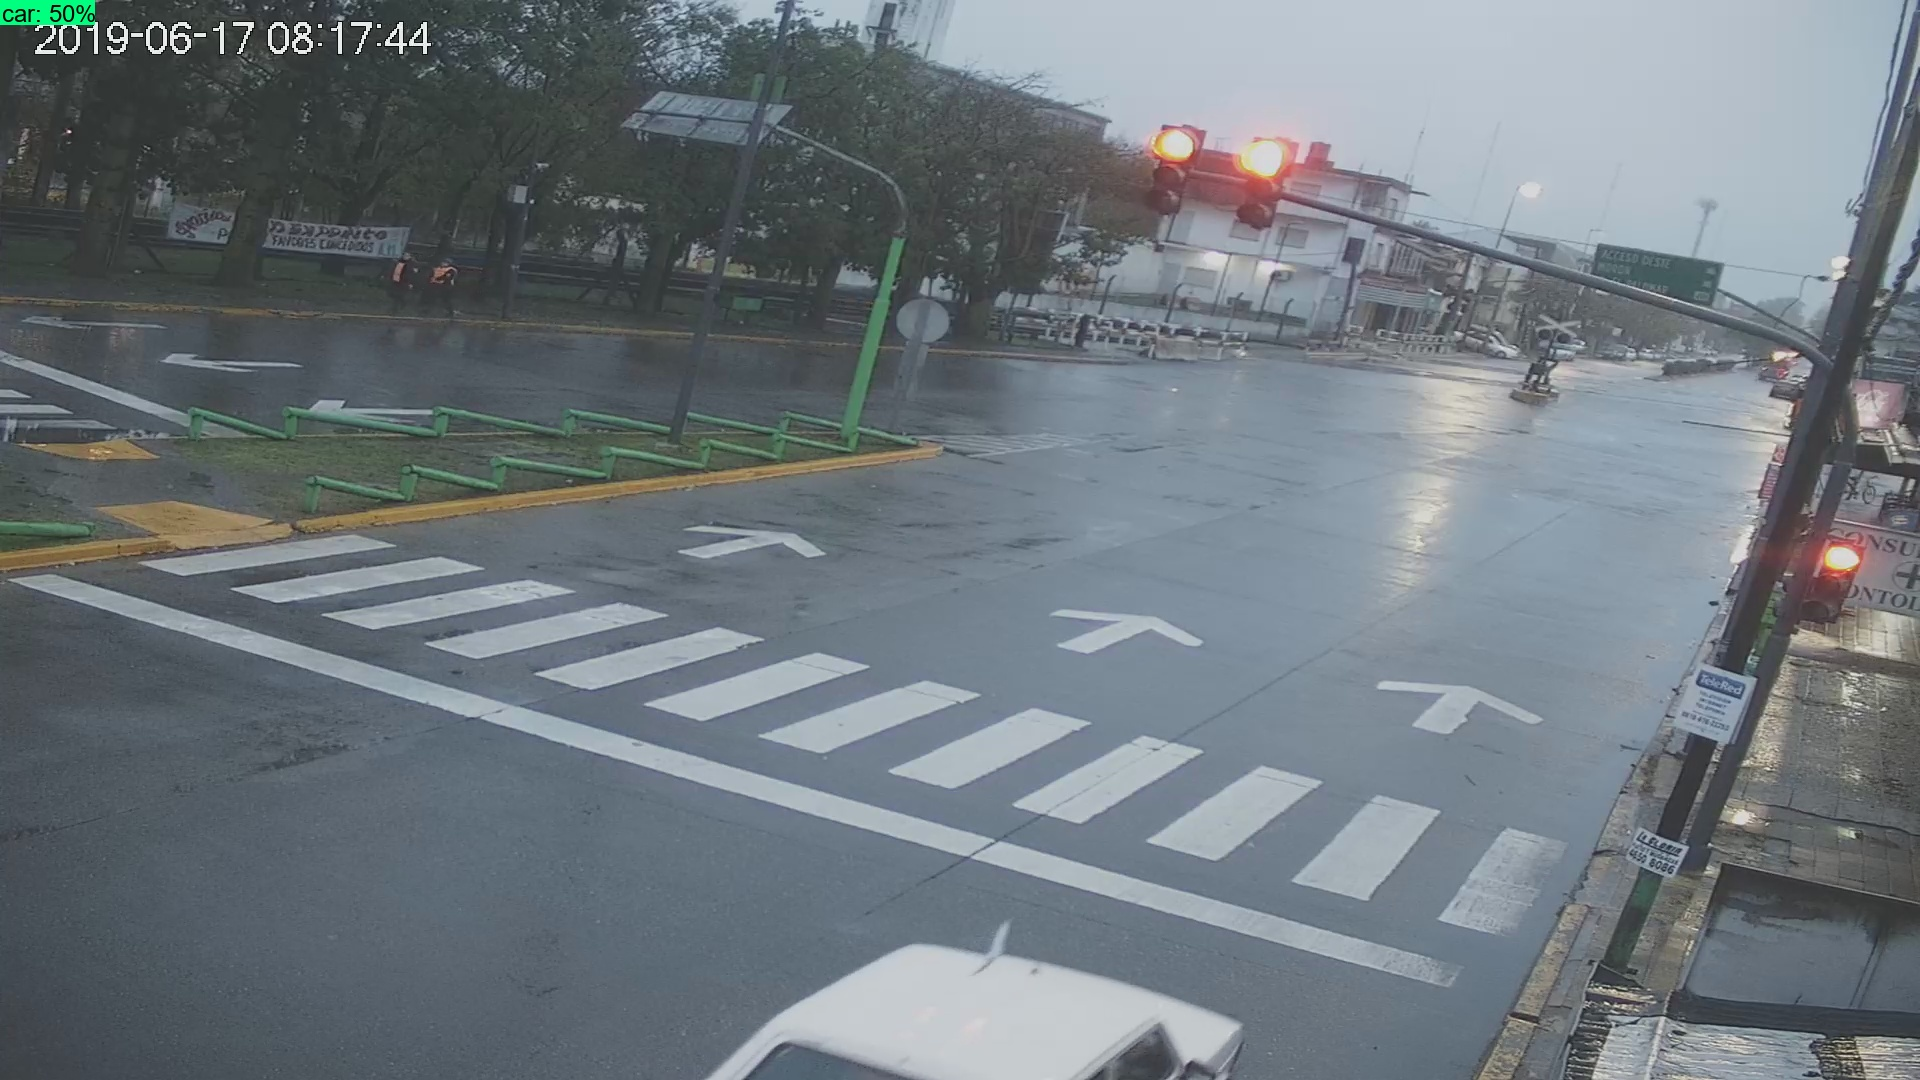car: (676, 913, 1247, 1080)
